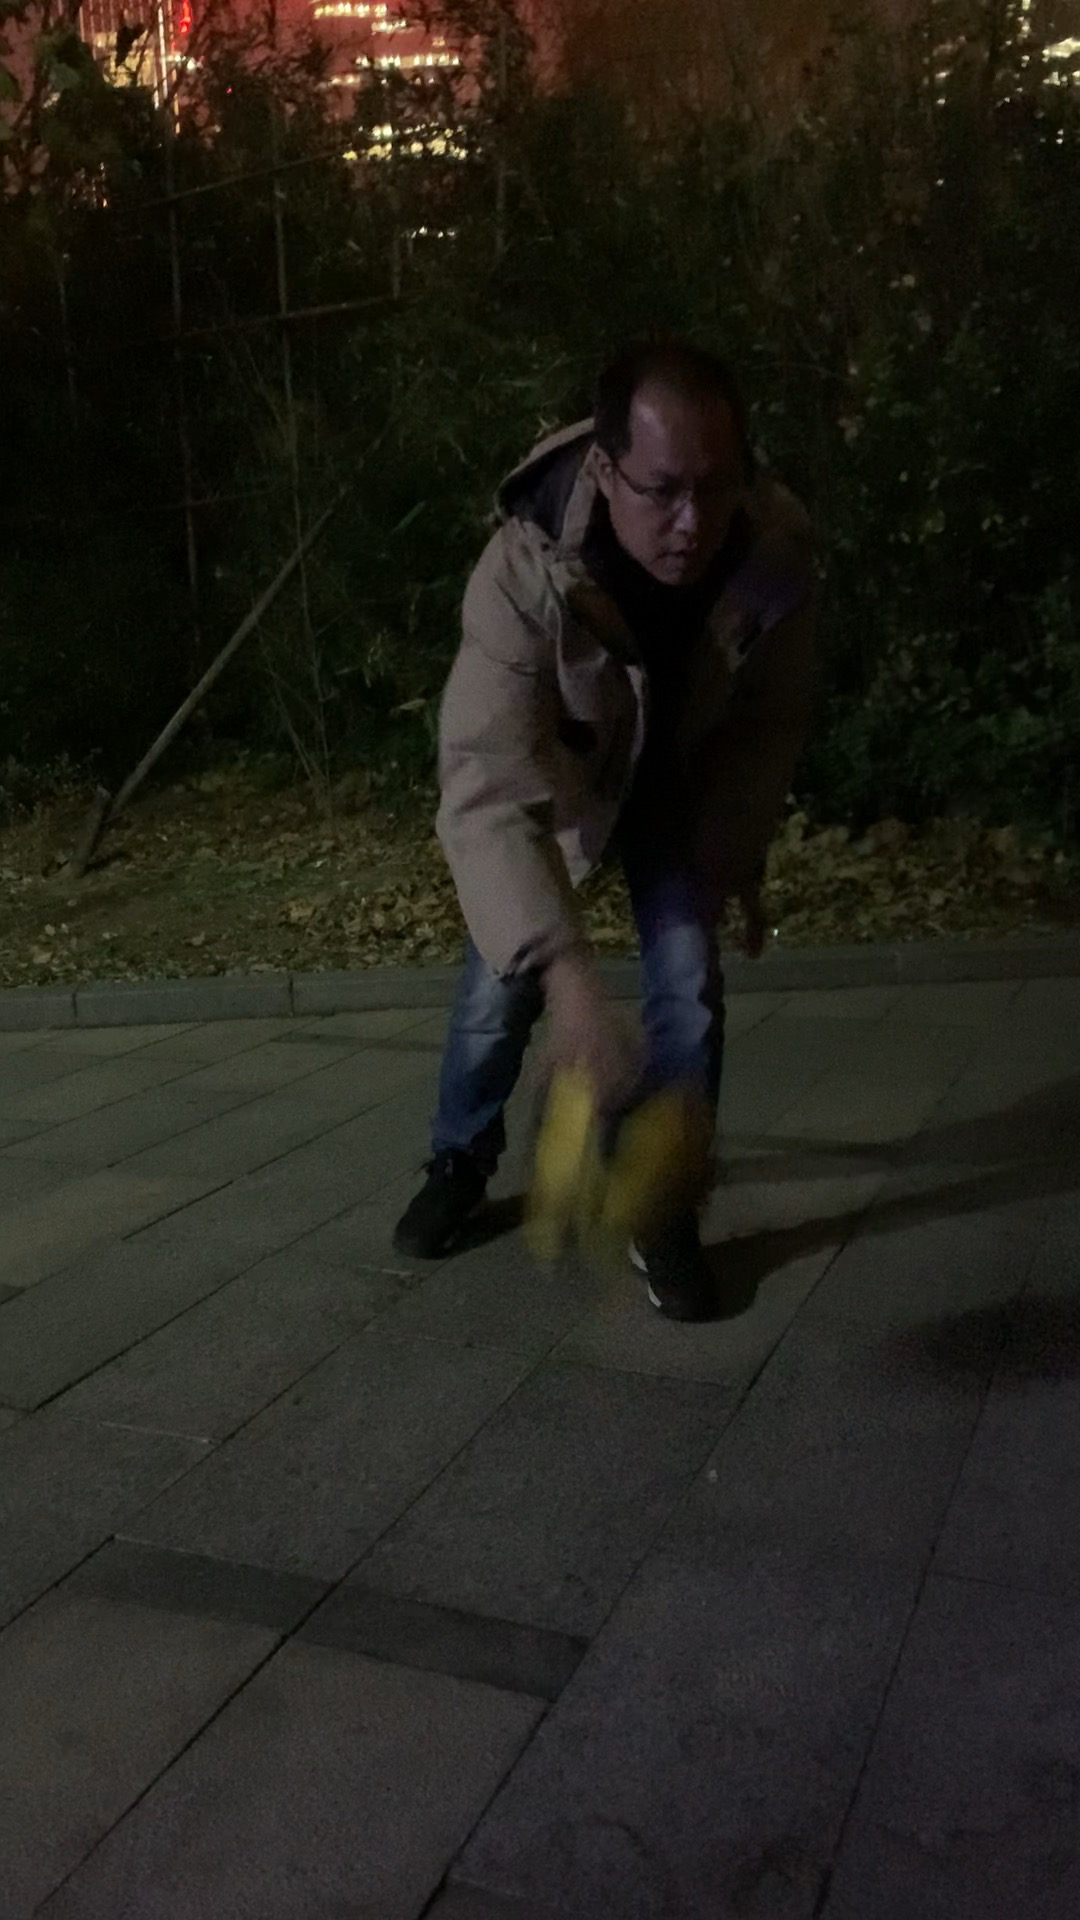ball: (526, 1048, 717, 1259)
